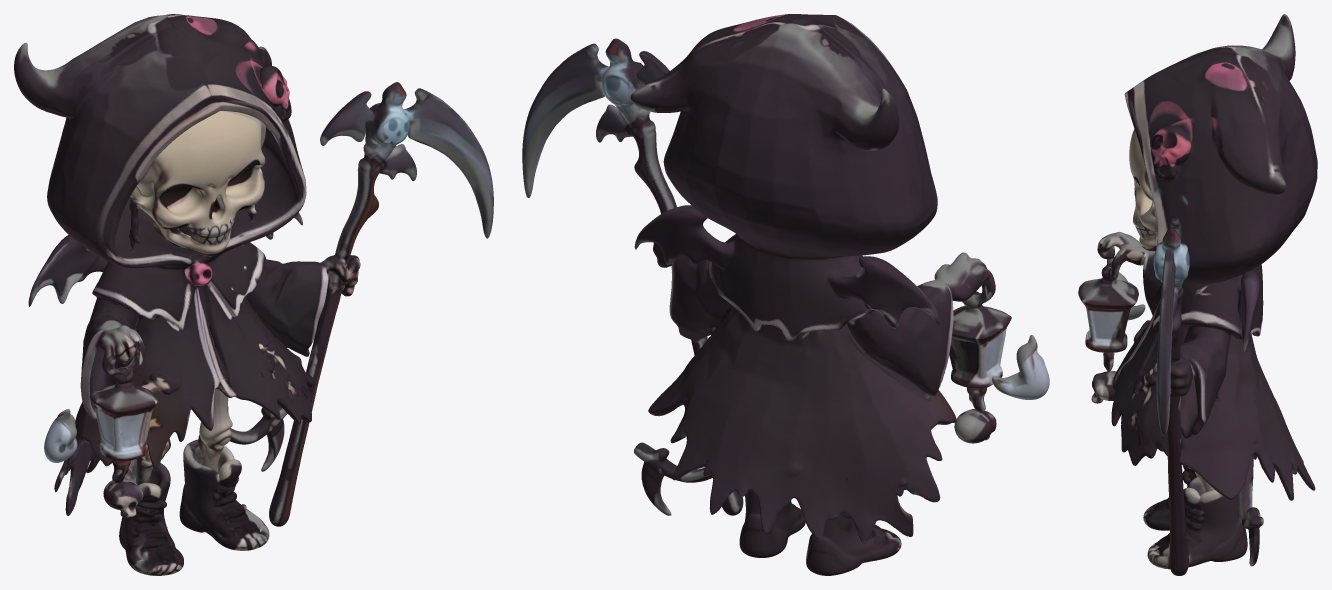
The model's file is reaper.glb.
3 renders of one model, left to right at view 1: azimuth 30°, elevation 25°; view 2: azimuth 150°, elevation 25°; view 3: azimuth 270°, elevation 25°, orthographic. The views are drawn at different scales.
Visible parts, largest first — view 1: tripo_node_7e8b02c5-f809-4e2a-9356-34e4eeda2af9; view 2: tripo_node_7e8b02c5-f809-4e2a-9356-34e4eeda2af9; view 3: tripo_node_7e8b02c5-f809-4e2a-9356-34e4eeda2af9.
Part boxes in pixels (<box>): tripo_node_7e8b02c5-f809-4e2a-9356-34e4eeda2af9: <box>14,14,493,575</box>; tripo_node_7e8b02c5-f809-4e2a-9356-34e4eeda2af9: <box>522,14,1049,575</box>; tripo_node_7e8b02c5-f809-4e2a-9356-34e4eeda2af9: <box>1078,14,1317,575</box>.
Bounding box in the file's own units: 0.9579 × 1 × 0.4411.
Materials: 1 (1 with a texture image).
